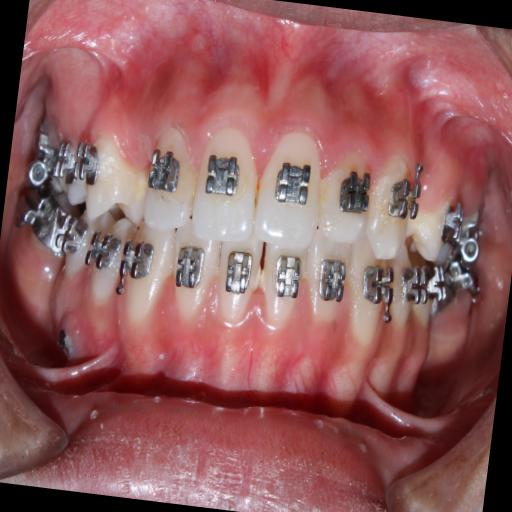correct_brace: (78, 122, 152, 230), (198, 146, 248, 208), (143, 138, 183, 201), (272, 154, 316, 206), (388, 174, 424, 222), (338, 168, 372, 216)
incorrect_brace: (139, 127, 201, 234), (318, 140, 376, 254), (72, 135, 104, 186)
